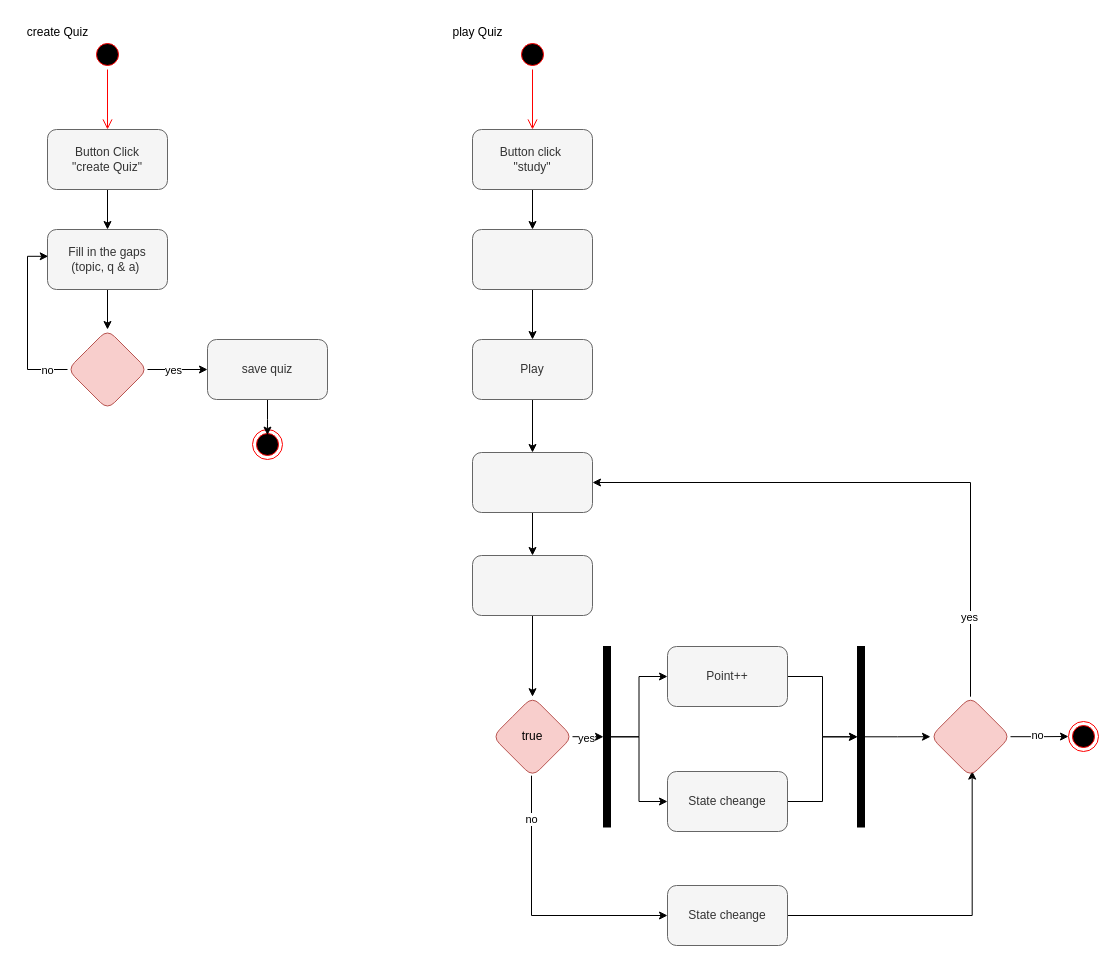
The diagram is 1116 pixels wide and 963 high, and some of its shapes have lost their labels. Here are the shapes that lost their labels. From the top down, the centre of each, then its label:
point (532, 259): select the Quiz
point (107, 369): done?
point (532, 482): load Question and answers
point (532, 585): choose answer
point (970, 736): Questions ?
